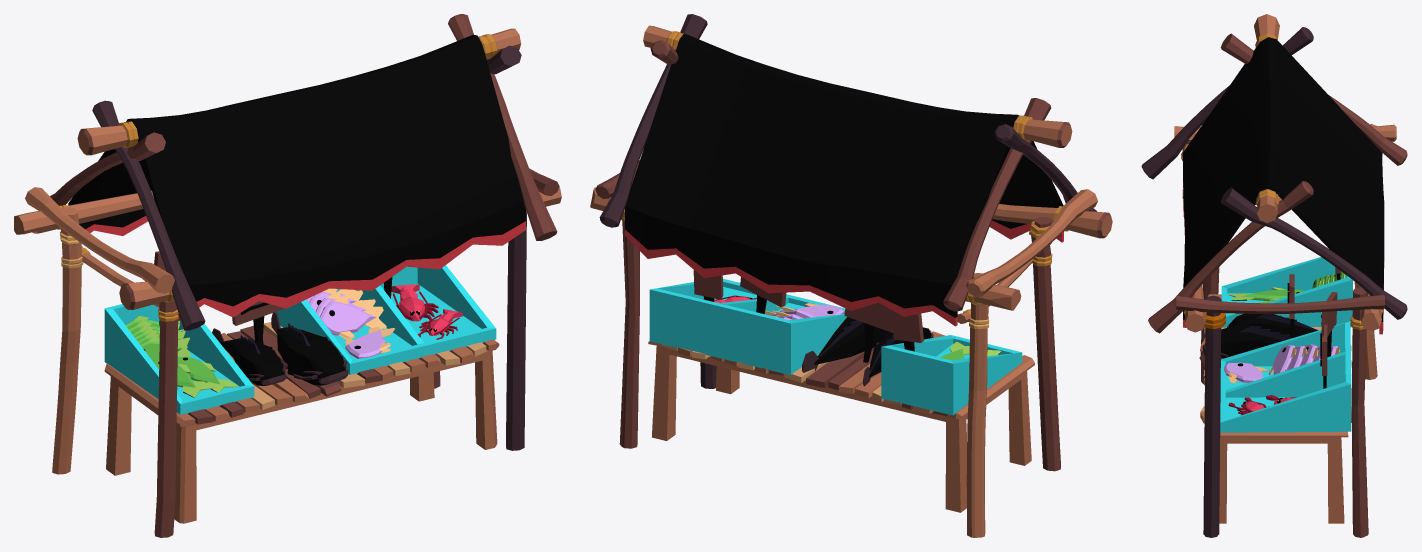
The model's file is Market Fisher Stand 1.fbx.
3 renders of one model, left to right at view 1: azimuth 30°, elevation 25°; view 2: azimuth 150°, elevation 25°; view 3: azimuth 270°, elevation 25°, orthographic. The views are drawn at different scales.
Visible parts, largest first — view 1: Market Fisher Stand; view 2: Market Fisher Stand; view 3: Market Fisher Stand.
Part boxes in pixels (x1=…): Market Fisher Stand: x1=14, y1=14, x2=561, y2=537; Market Fisher Stand: x1=590, y1=14, x2=1112, y2=537; Market Fisher Stand: x1=1141, y1=14, x2=1407, y2=537.
Size of the model in its own units: 474 by 408 by 281.
